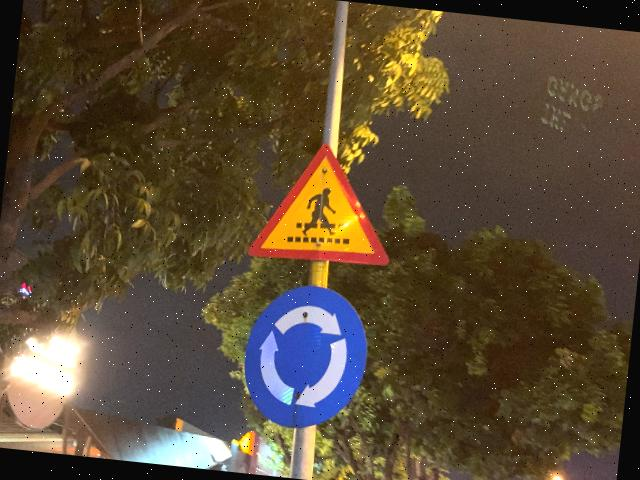duong-nguoi-di-bo-cat-ngang: (248, 134, 402, 272)
noi-giao-nhau-chay-theo-vong-xuyen: (237, 279, 374, 435)
